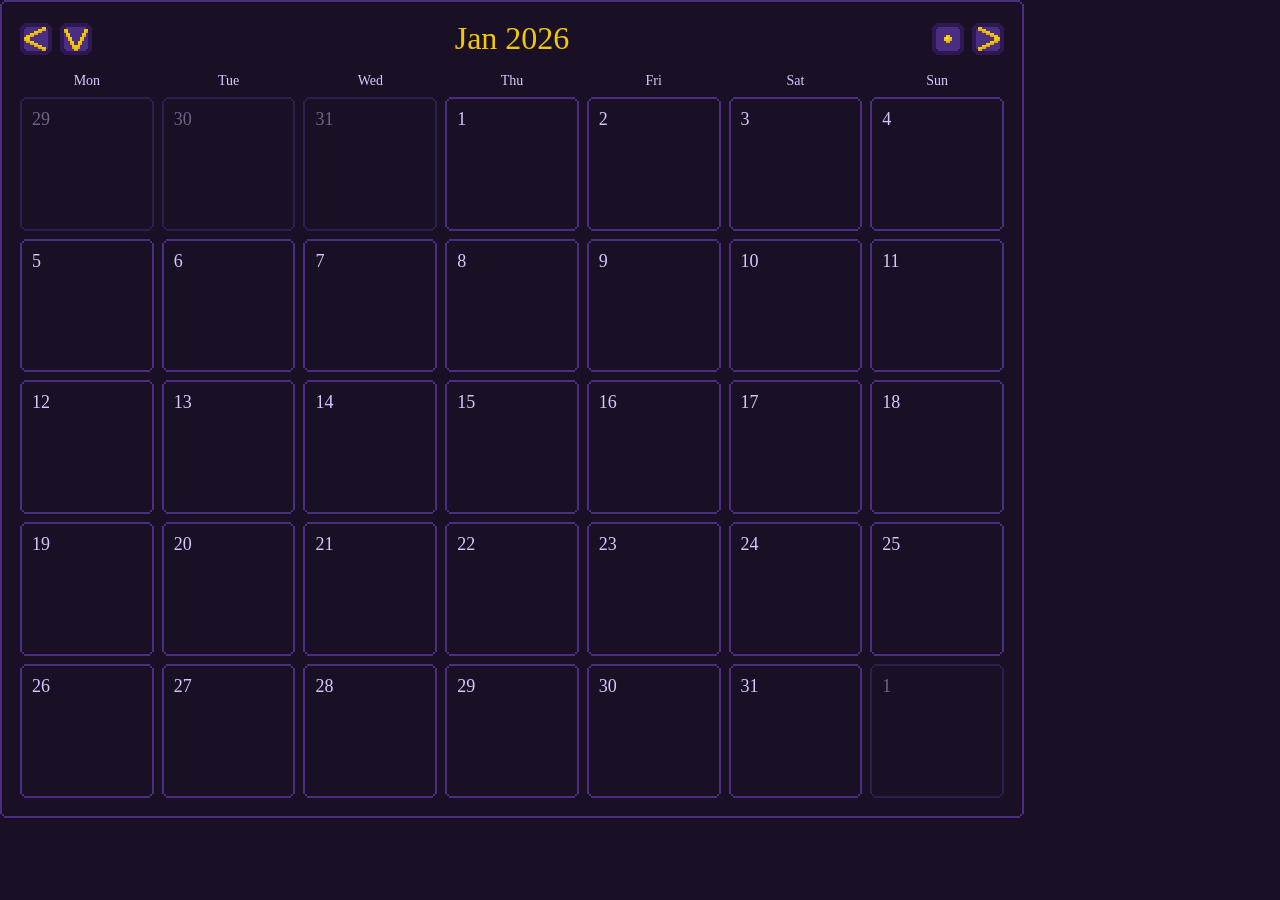
Scenario: Calendar › returns to the current month
Click the button named "Current month".
click(76, 38)  # box left=60, top=22, right=92, bottom=54
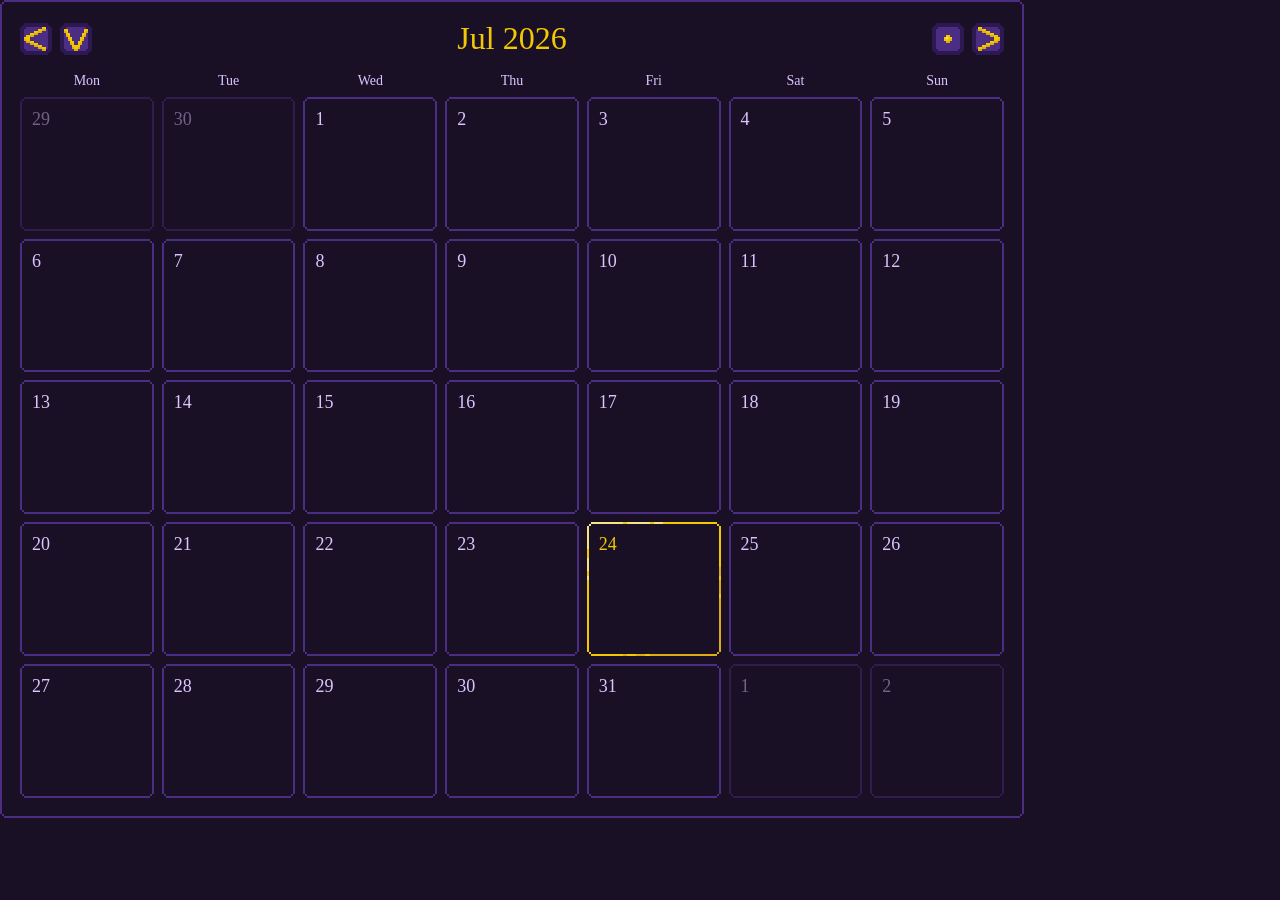
expect the heading "Jul 2026" is shown: met, box left=457, top=20, right=567, bottom=57
